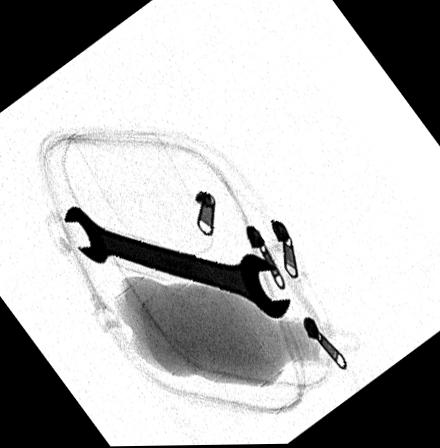Wrench: (62, 205, 290, 321)
